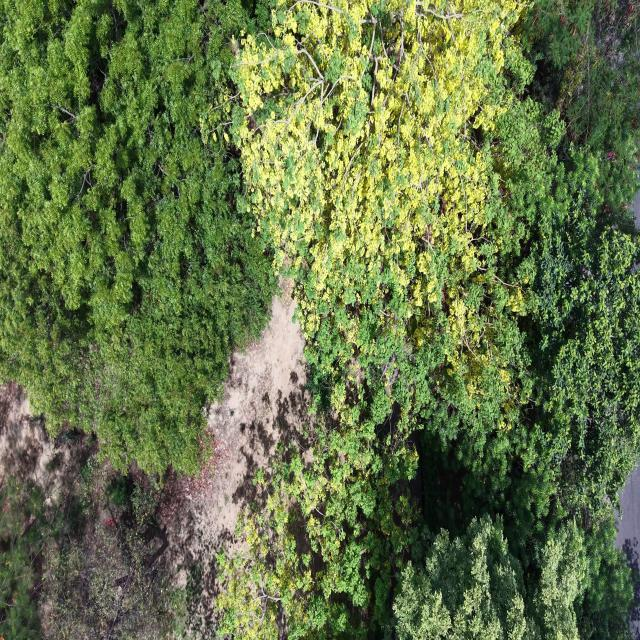DRY_AREA: (161, 287, 312, 625), (165, 295, 312, 624), (170, 296, 312, 623), (180, 298, 311, 619), (171, 296, 308, 542), (199, 298, 307, 533), (0, 382, 88, 508), (0, 382, 77, 502), (0, 382, 55, 485), (616, 466, 639, 575), (632, 192, 639, 228)
VEGETATION_TREE: (0, 0, 639, 639), (220, 0, 639, 637), (0, 0, 273, 473), (0, 448, 184, 639), (393, 516, 631, 639), (42, 456, 183, 639), (522, 0, 639, 218), (394, 517, 586, 639), (0, 477, 51, 639)
